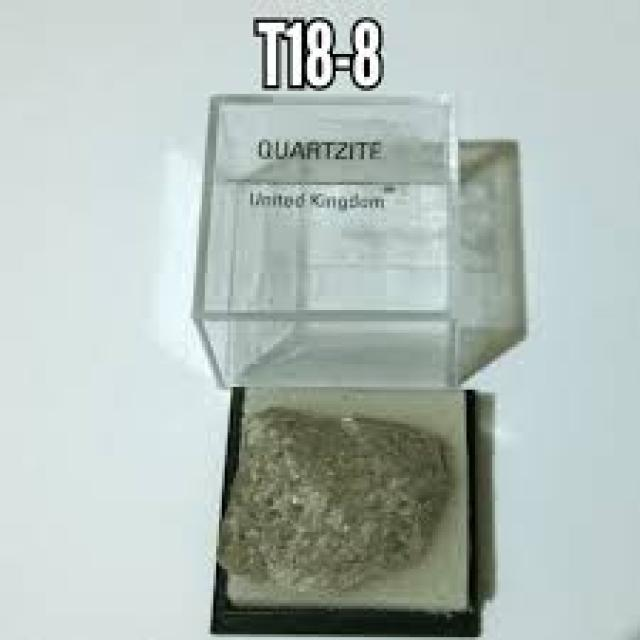Metamorphic: (219, 407, 455, 594)
